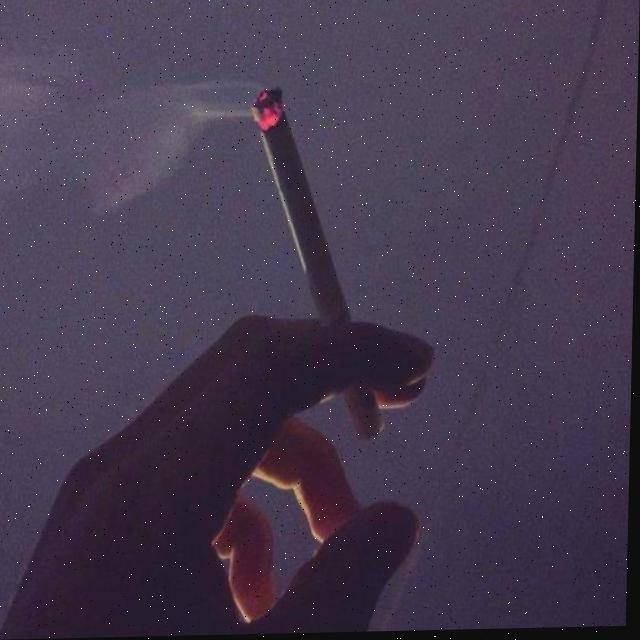cigarette: (249, 84, 395, 441)
